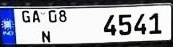character: (147, 11, 162, 35), (102, 13, 117, 36), (117, 12, 131, 36), (133, 12, 147, 36), (20, 9, 31, 23), (47, 8, 57, 23), (41, 29, 51, 43), (58, 8, 67, 22), (32, 8, 40, 23)
